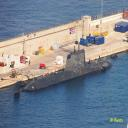submarine: (14, 49, 113, 95)
